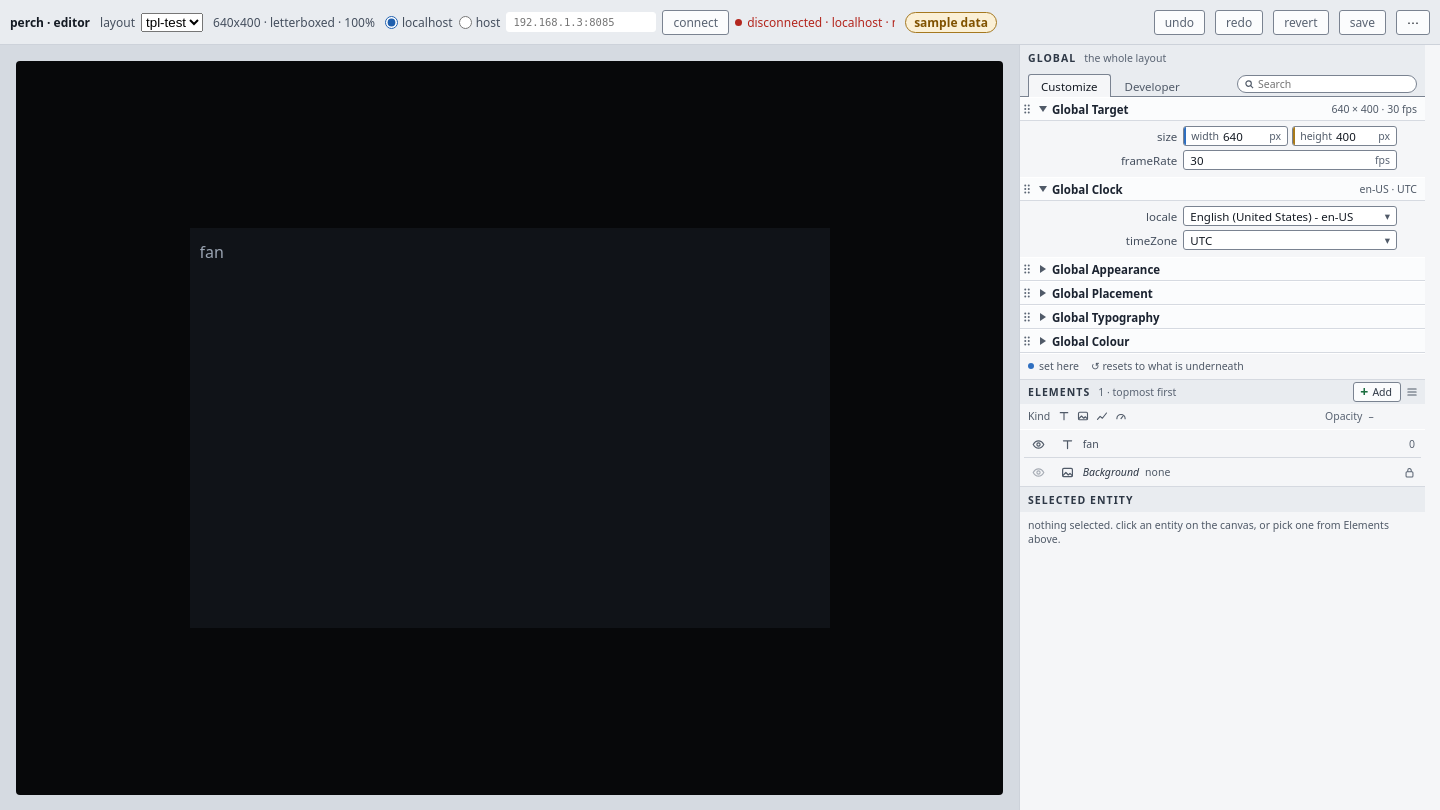
it: the text field as a template › inserts a clock token at the caret, and the preview paints it
This screenshot has width=1440, height=810.
Click the button "fan 0" at (1067, 444), box x1=1052 y1=430 x2=1421 y2=458
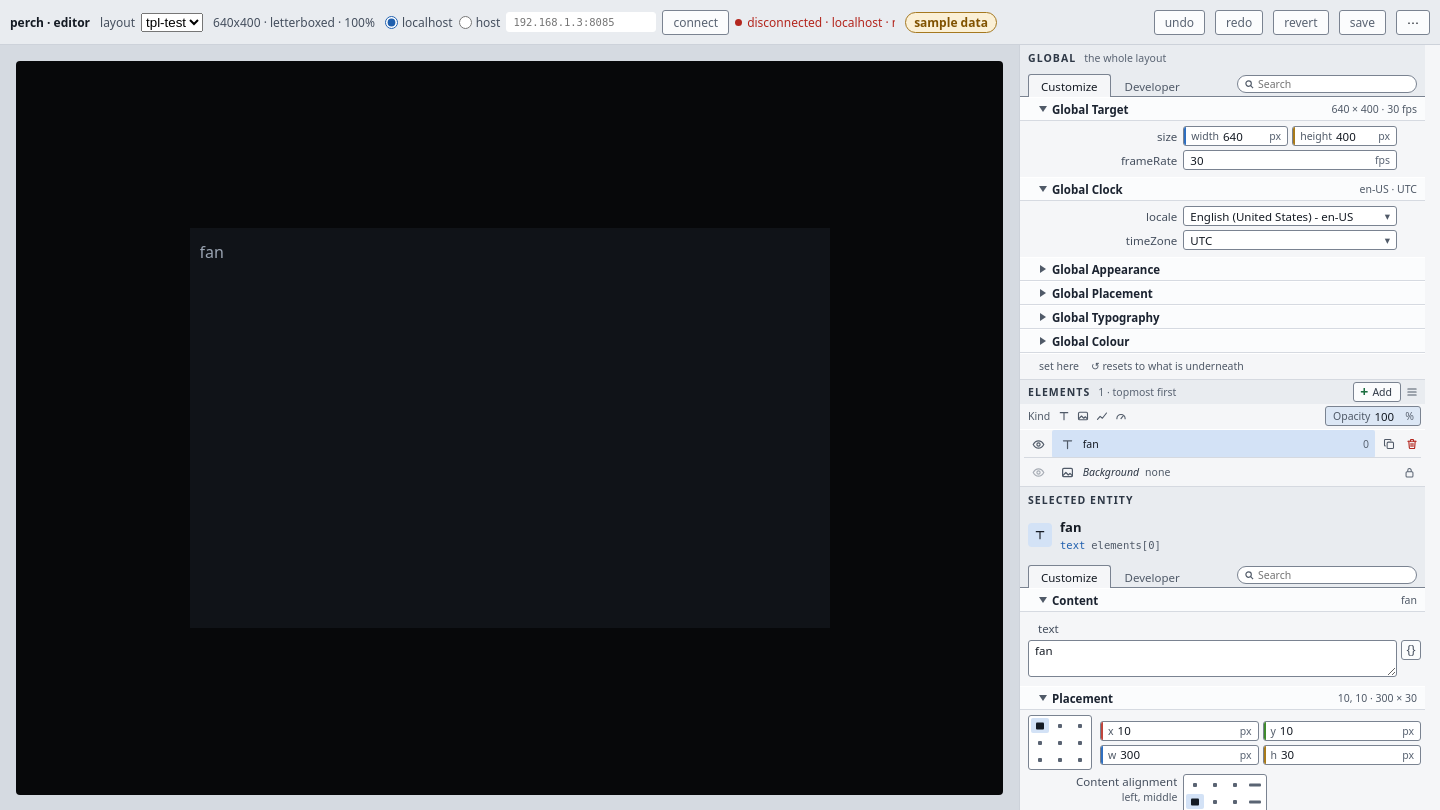
Click the button named "insert a sensor or the clock" at (1411, 650), box x1=1401 y1=640 x2=1421 y2=660
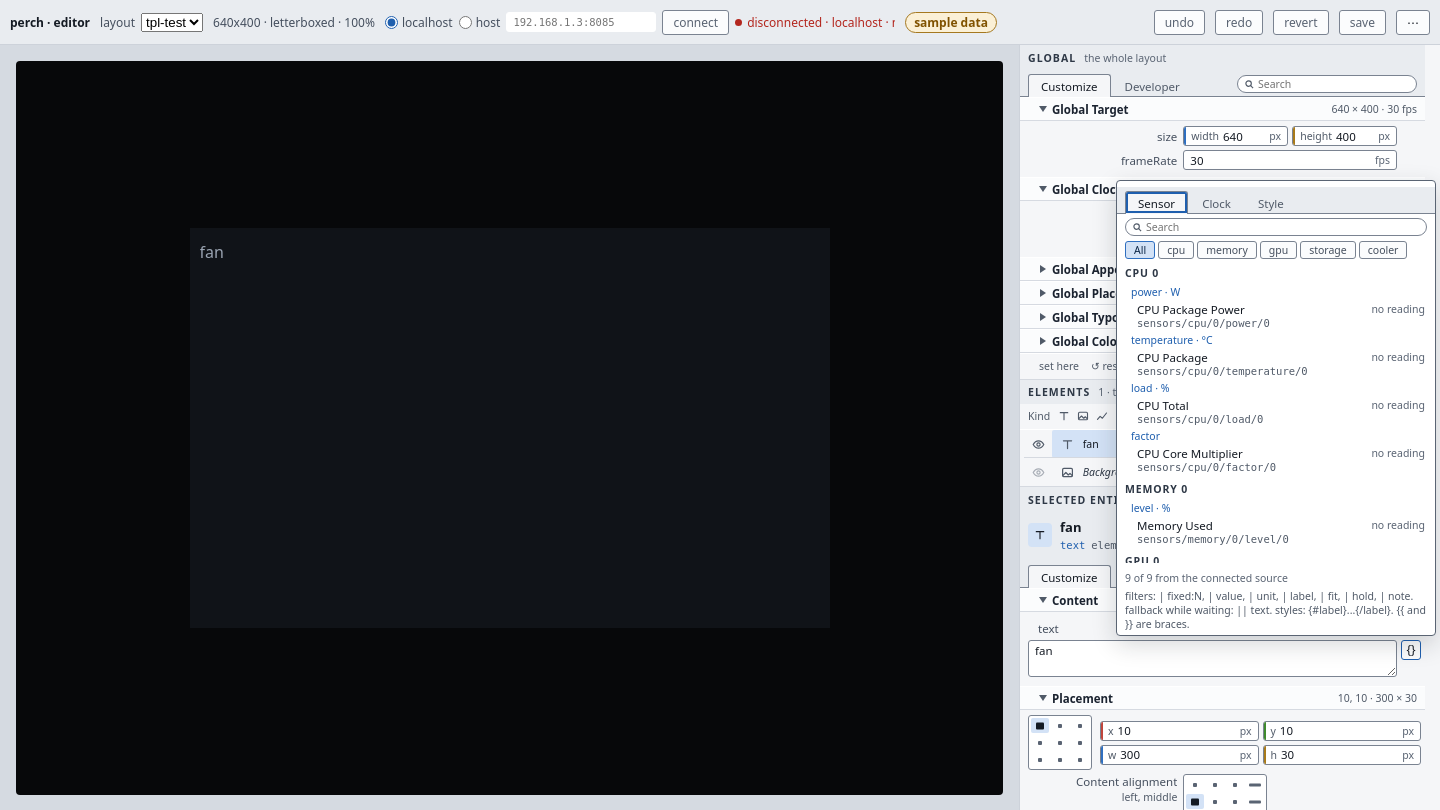
Click the tab "Clock" at (1217, 203), box x1=1189 y1=192 x2=1244 y2=214
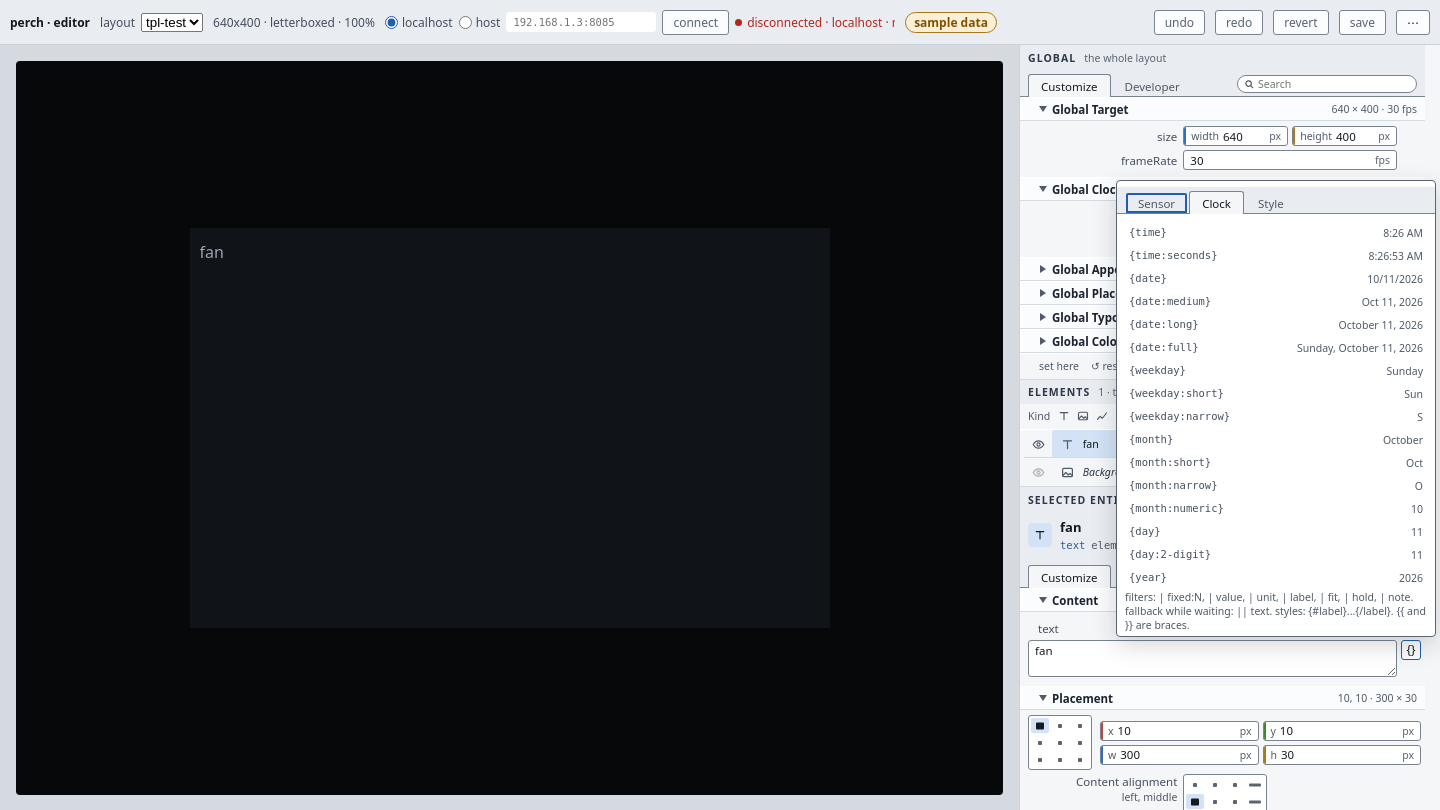
Click the button "{year} 2026" at (1148, 577), box x1=1121 y1=567 x2=1431 y2=589
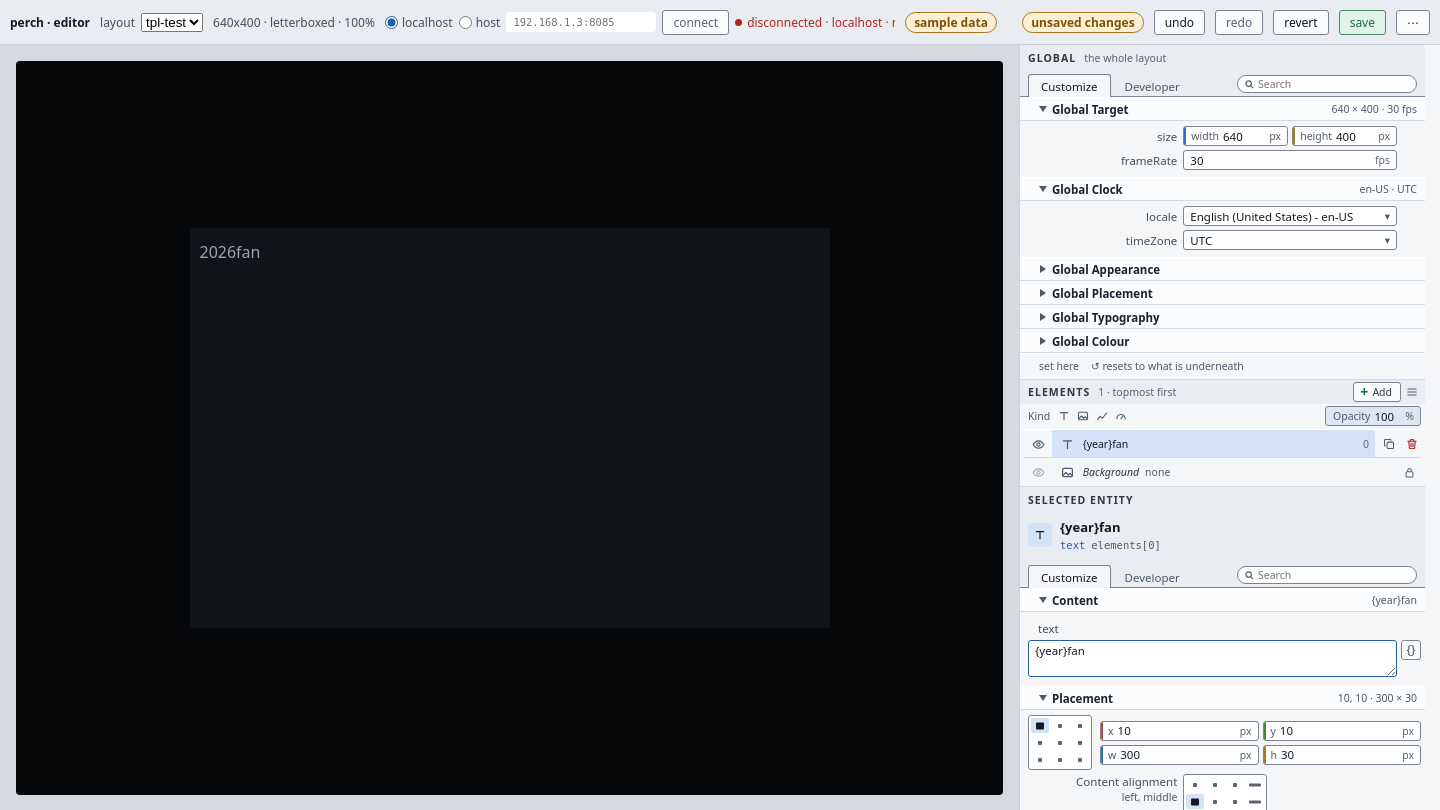
Now the text box holds "{year}fan ", box x1=1028 y1=640 x2=1397 y2=677
